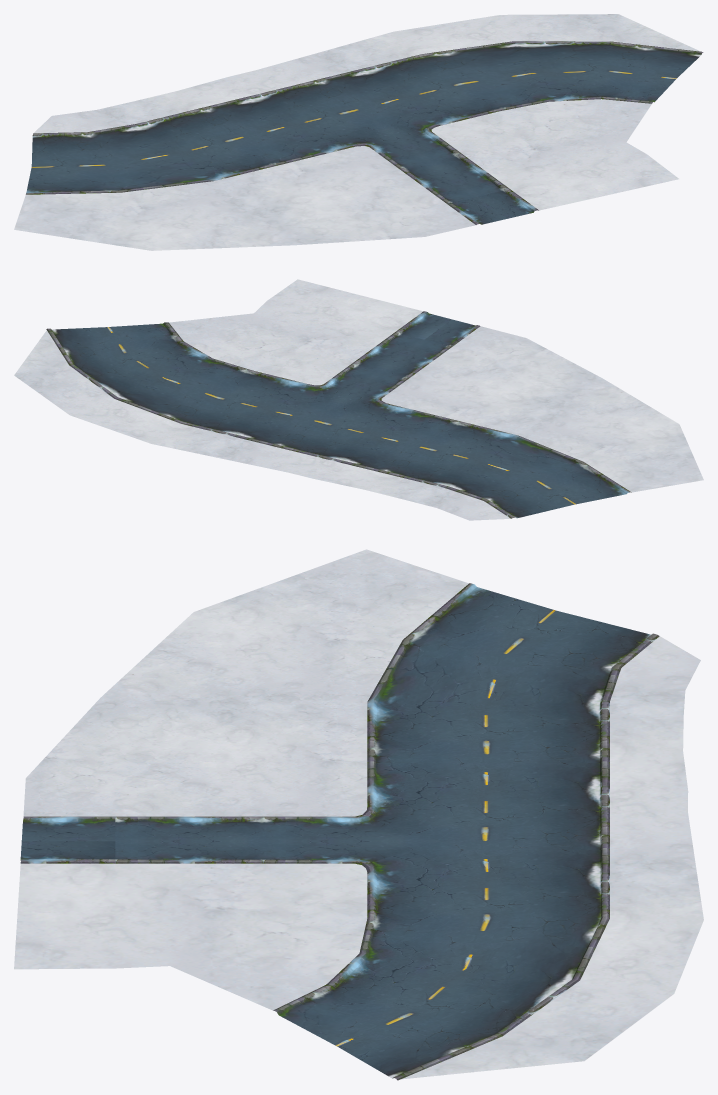
File: Map07_DiMianM_01.FBX
3 views of the same model, one above another, from view 1: azimuth 30°, elevation 25°; view 2: azimuth 150°, elevation 25°; view 3: azimuth 270°, elevation 25° (orthographic). The views are drawn at different scales.
Visible parts, largest first — view 1: Map07_DiMianM_01; view 2: Map07_DiMianM_01; view 3: Map07_DiMianM_01.
Part boxes in pixels (x1,y1,x2,y2): Map07_DiMianM_01: [14, 14, 703, 250]; Map07_DiMianM_01: [14, 279, 703, 520]; Map07_DiMianM_01: [14, 549, 703, 1080].
Bounding box in the file's own units: 7407 × 18.61 × 4070.
